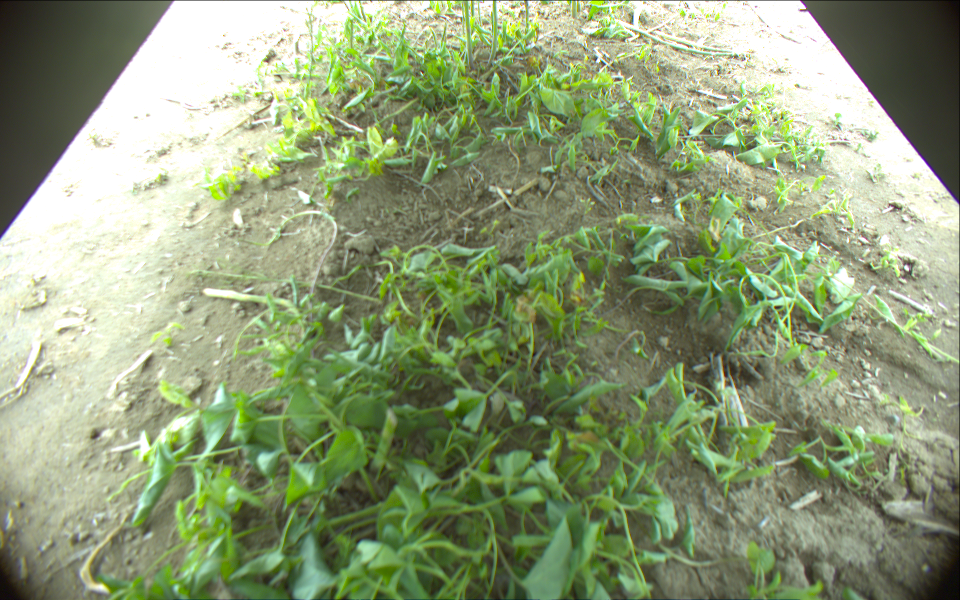aspa: (459, 1, 474, 64), (486, 1, 500, 67), (524, 1, 530, 42), (570, 1, 581, 19)
